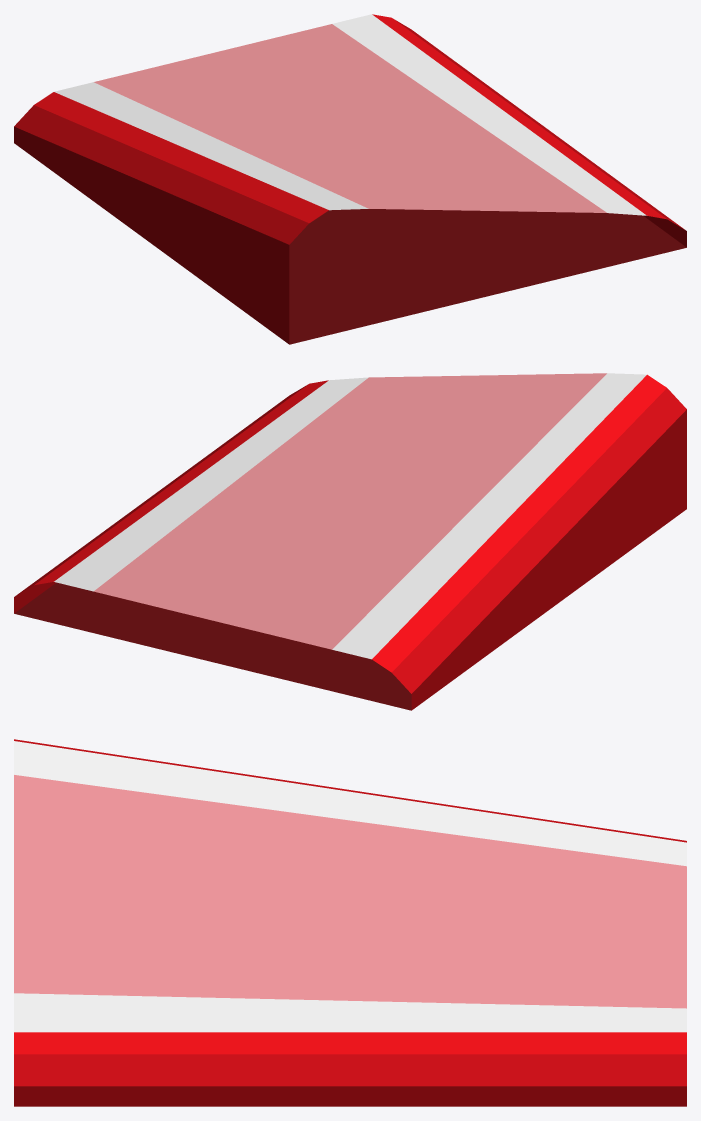
File: Bank2.fbx
The picture shows the model from 3 angles, top to bottom: view 1: azimuth 30°, elevation 25°; view 2: azimuth 150°, elevation 25°; view 3: azimuth 270°, elevation 25°; orthographic projection. The views are drawn at different scales.
Parts seen in each view (by area): view 1: BankedStraight.002; view 2: BankedStraight.002; view 3: BankedStraight.002.
Part boxes in pixels (left/top/right/bottom): BankedStraight.002: left=14, top=14, right=686, bottom=344; BankedStraight.002: left=14, top=373, right=686, bottom=710; BankedStraight.002: left=14, top=739, right=686, bottom=1106.
Bounding box in the file's own units: 10 × 3 × 12.
